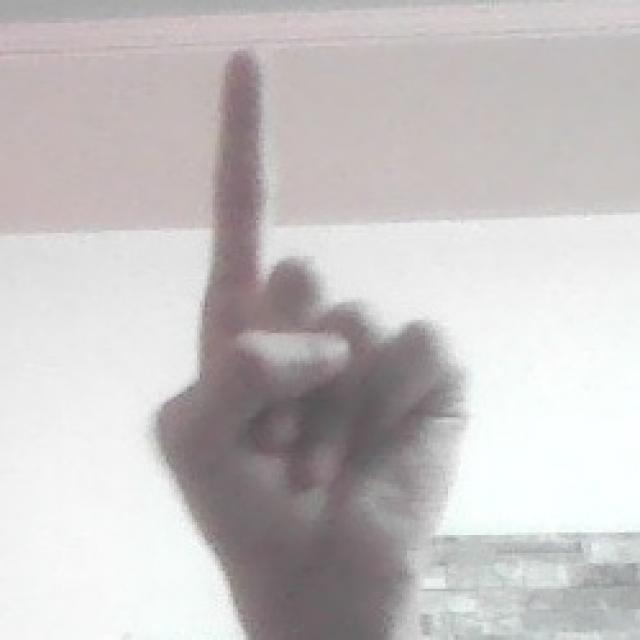Numeric-1: (154, 40, 472, 638)
